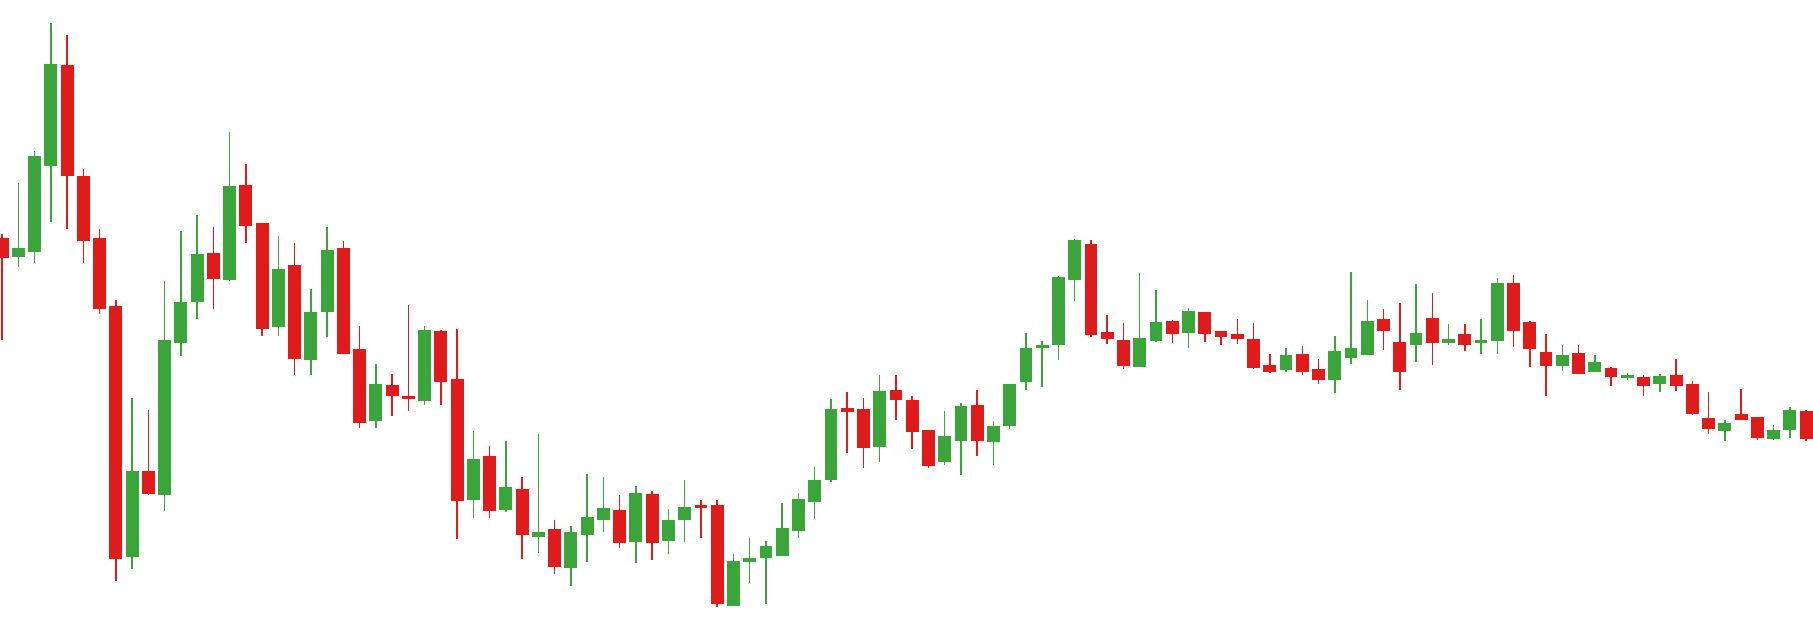buy: (548, 516, 743, 615)
sell: (1408, 277, 1522, 364)
